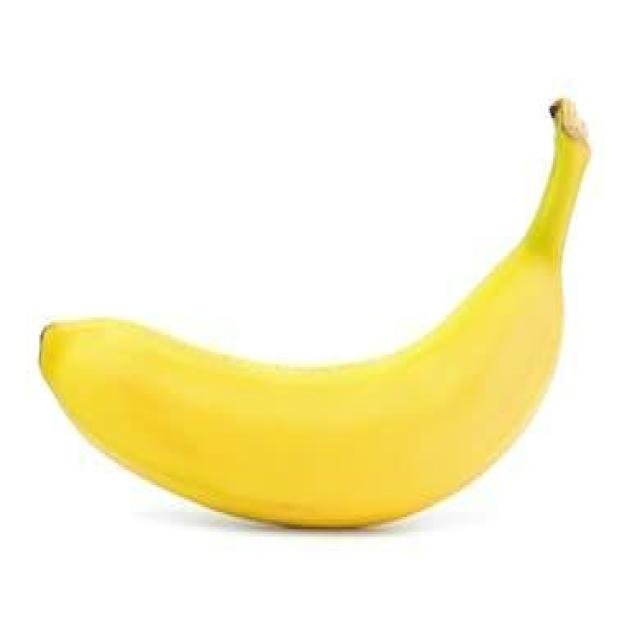banana: (38, 125, 569, 528)
